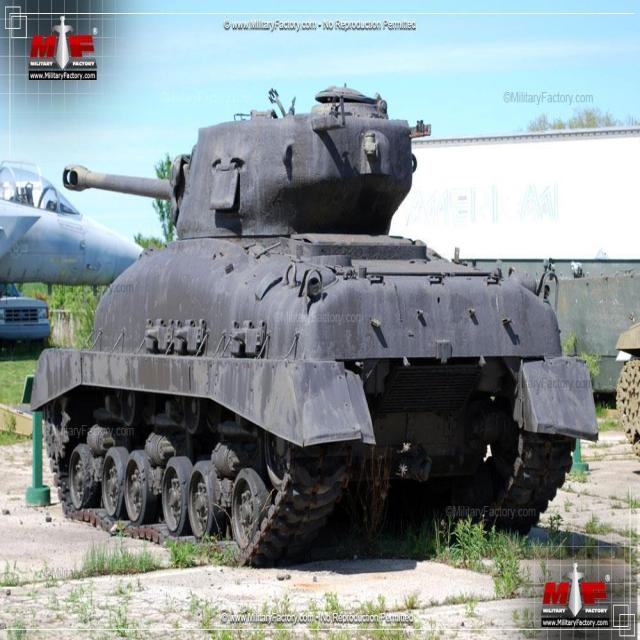Tanks: (19, 63, 604, 563)
